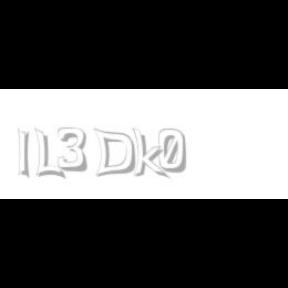0: (158, 128, 189, 174)
3: (57, 128, 88, 172)
D: (92, 128, 136, 178)
L: (35, 128, 63, 180)
k: (132, 128, 170, 180)
l: (17, 128, 33, 180)
